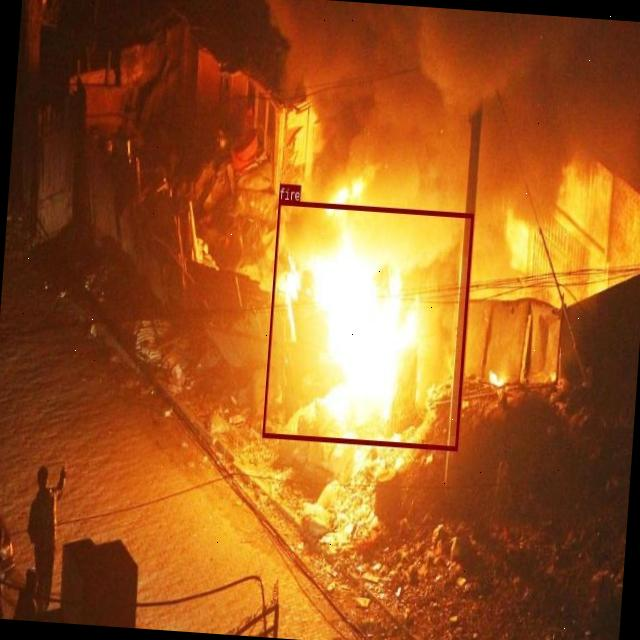fire: (261, 200, 473, 450)
